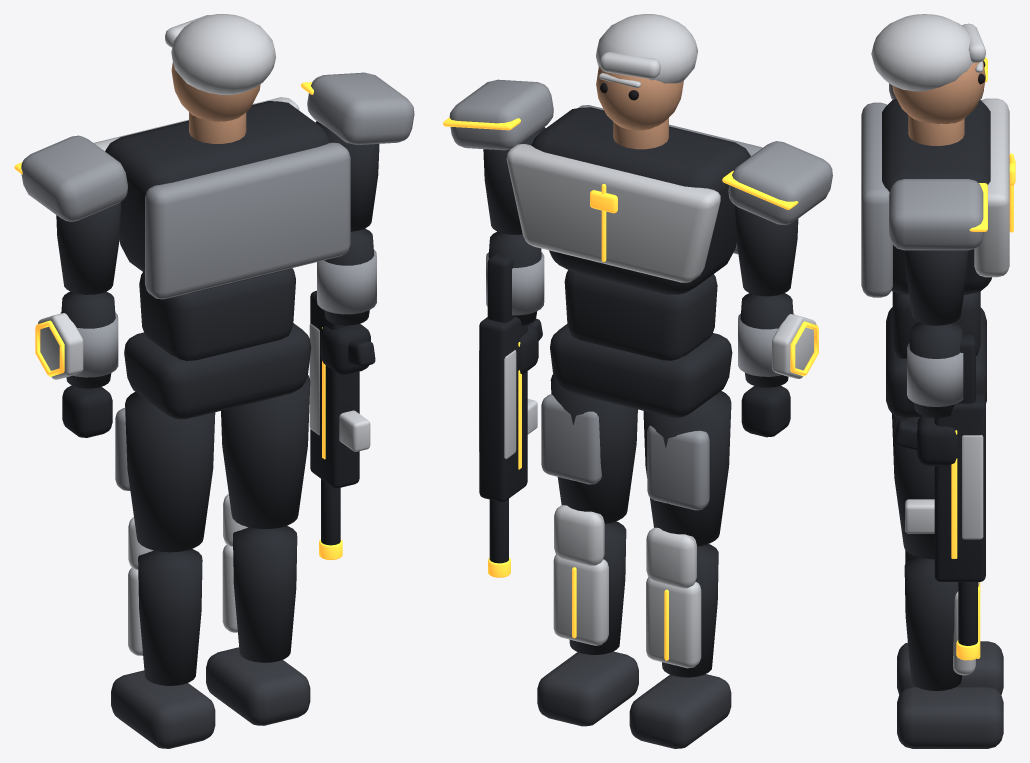
File: orbit.glb
The picture shows the model from 3 angles, left to right: view 1: azimuth 30°, elevation 25°; view 2: azimuth 150°, elevation 25°; view 3: azimuth 270°, elevation 25°; orthographic projection. The views are drawn at different scales.
Parts seen in each view (by area): view 1: BackPlate, Torso, Thigh0, Pelvis, Thigh1, Waist, Shin1, Shin0, HairCap, Pauldron0, Pauldron1, Boot1 (+21 smaller); view 2: ChestPlate, Torso, Pelvis, Waist, Body, Thigh1, Thigh0, Pauldron0, Boot0, Boot1, Pauldron1, ThighPad0 (+24 smaller); view 3: Torso, Pauldron1, Boot1, HairCap, Shin1, Body, BackPlate, ChestPlate, UpperArm1, Head, Thigh1, Bracer1 (+17 smaller).
Boxes of the visible parts, x1,y1,x2,y2 form: BackPlate: [145, 142, 350, 299]; Torso: [105, 101, 330, 293]; Thigh0: [125, 392, 215, 552]; Pelvis: [124, 323, 311, 419]; Thigh1: [221, 375, 310, 529]; Waist: [139, 268, 295, 360]; Shin1: [233, 525, 297, 662]; Shin0: [138, 549, 202, 685]; HairCap: [171, 14, 275, 94]; Pauldron0: [21, 135, 127, 221]; Pauldron1: [307, 72, 414, 144]; Boot1: [206, 647, 310, 725]; ChestPlate: [506, 144, 720, 282]; Torso: [531, 107, 750, 294]; Pelvis: [550, 324, 732, 417]; Waist: [564, 270, 717, 360]; Body: [479, 317, 527, 502]; Thigh1: [550, 374, 637, 523]; Thigh0: [643, 391, 731, 546]; Pauldron0: [728, 141, 832, 225]; Boot0: [629, 674, 731, 748]; Boot1: [537, 651, 638, 726]; Pauldron1: [449, 79, 553, 150]; ThighPad0: [647, 425, 709, 510]; Torso: [882, 99, 991, 294]; Pauldron1: [889, 179, 983, 250]; Boot1: [897, 686, 1003, 748]; HairCap: [871, 14, 973, 91]; Shin1: [904, 556, 962, 690]; Body: [934, 393, 985, 581]; BackPlate: [861, 102, 892, 297]; ChestPlate: [974, 98, 1009, 277]; UpperArm1: [904, 250, 968, 325]; Head: [892, 62, 985, 124]; Thigh1: [892, 413, 934, 559]; Bracer1: [907, 343, 963, 406].
Bounding box in the file's own units: 1.03 × 1.94 × 0.39.
